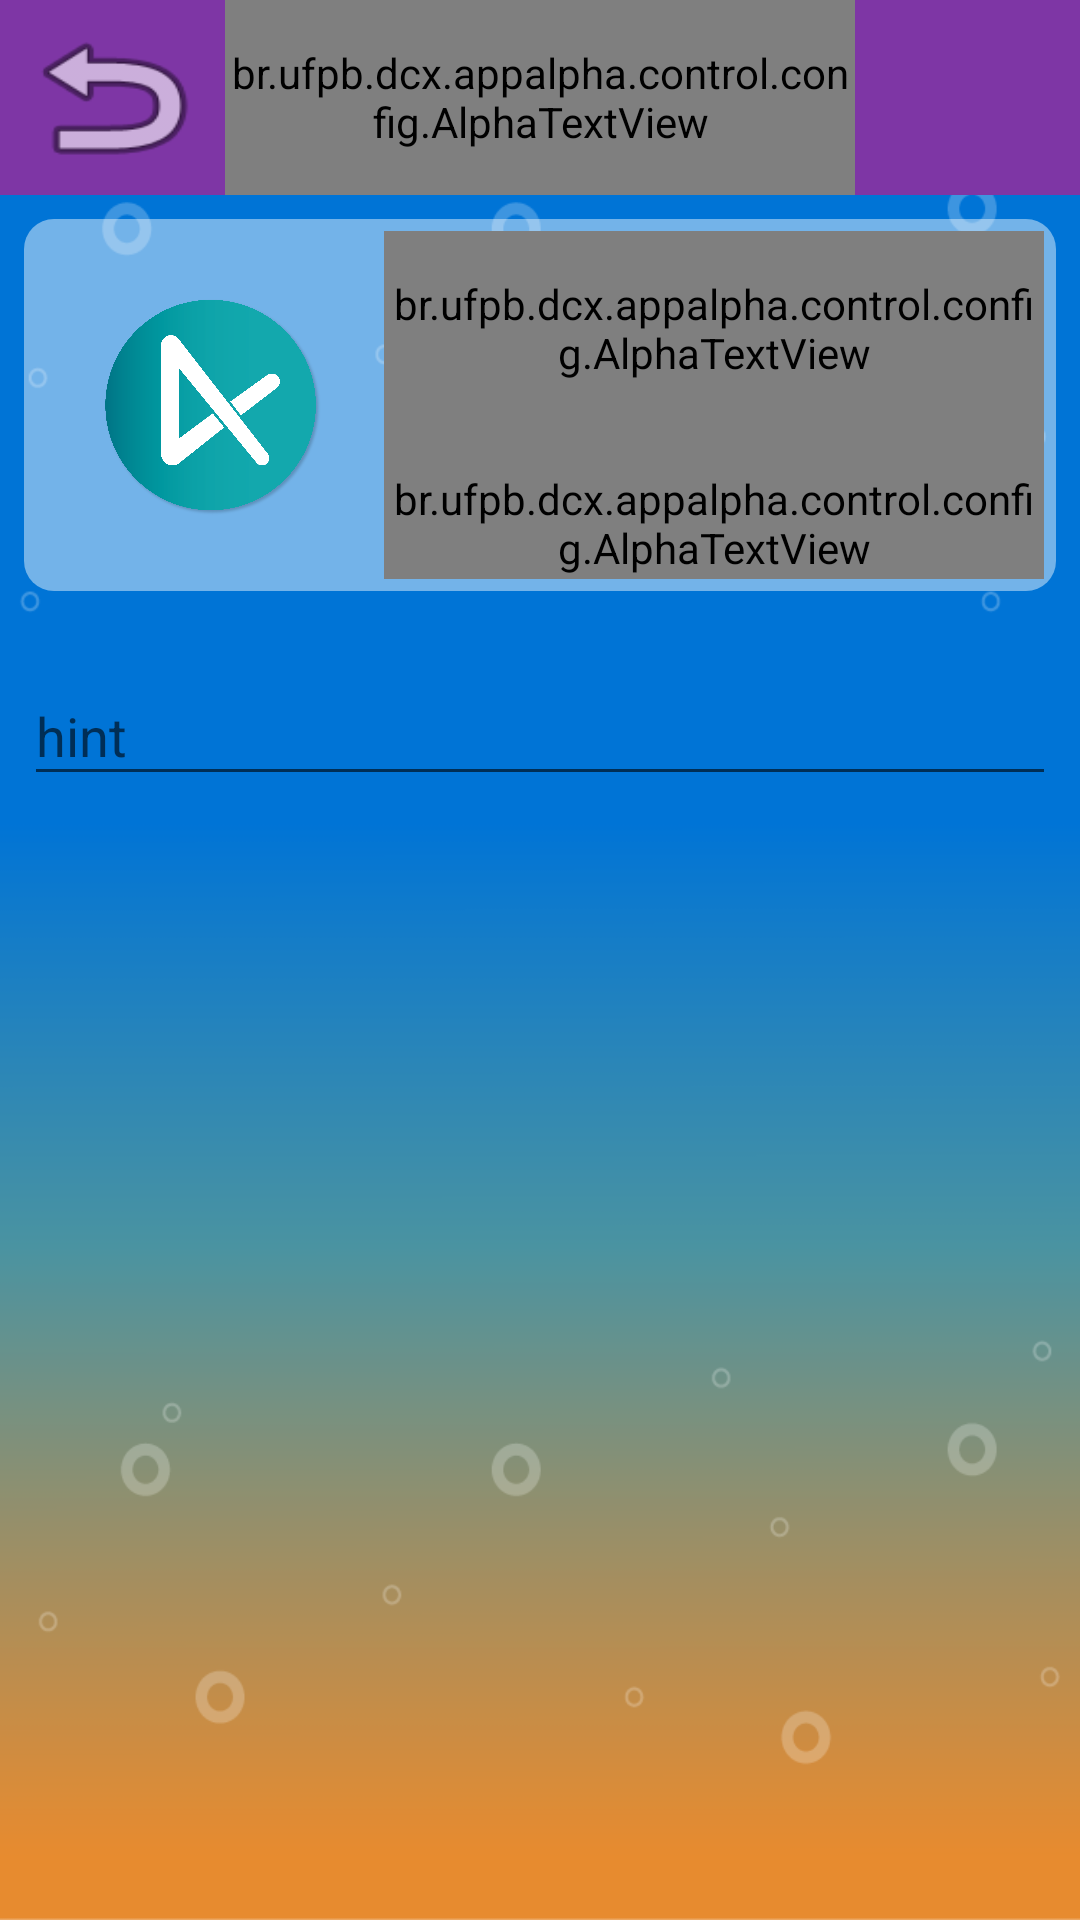

Icons on this 1080×1920 Android screen, each with the point to tap as [x,y]:
revert: [112,97]
